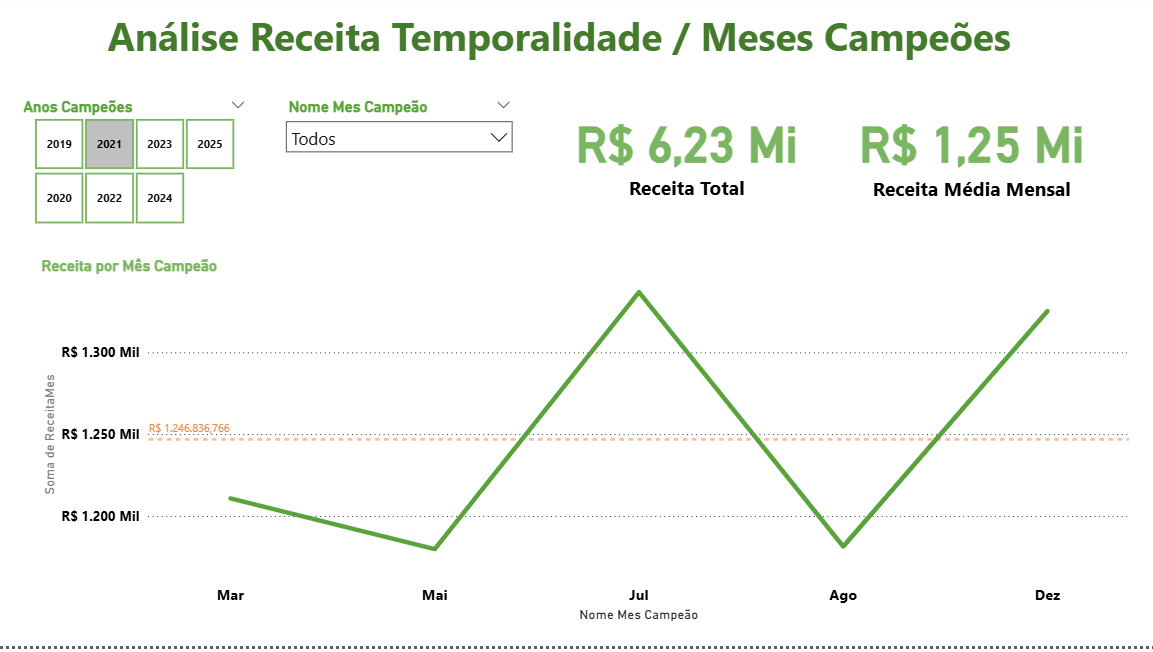

Layout of this report page (visuals, bound fields, positions):
{"tool":"powerbi","page":{"name":"Análise Temporalidade","canvas":[1280,720],"ordinal":1},"visuals":[{"type":"slicer","fields":{"Values":["Analise_Temporalidade.Ano"]},"box":[14.9,109.3,270,150.7],"z":0},{"type":"textbox","box":[116,11.6,1046.9,74.5],"z":1000},{"type":"card","fields":{"Values":["Analise_Temporalidade.Receita Total"]},"box":[602.4,97.7,314.7,150.7],"z":2000},{"type":"card","fields":{"Values":["Analise_Temporalidade.Receita Média Mensal"]},"box":[917.1,97.7,314.7,152.4],"z":3000},{"type":"slicer","fields":{"Values":["Analise_Temporalidade.Nome Mes Campeão"]},"box":[308.1,109.3,270,154.1],"z":4000},{"type":"lineChart","title":"Receita por Mês Campeão","fields":{"Y":["Sum(Analise_Temporalidade.ReceitaMes)"],"Category":["Analise_Temporalidade.Nome Mes Campeão"]},"box":[43.1,289.9,1210.9,407.5],"z":5000}]}

Visuals, with their boxes in screenshot pixels (x1, y1, x2, y2), scaled from the page's 1280x720 canvas onto the 1153x652 screenshot:
slicer - Analise_Temporalidade.Ano: bbox=[13, 99, 257, 235]
textbox: bbox=[104, 11, 1048, 78]
card - Analise_Temporalidade.Receita Total: bbox=[543, 88, 826, 225]
card - Analise_Temporalidade.Receita Média Mensal: bbox=[826, 88, 1110, 226]
slicer - Analise_Temporalidade.Nome Mes Campeão: bbox=[278, 99, 521, 239]
"Receita por Mês Campeão" lineChart: bbox=[39, 263, 1130, 632]
